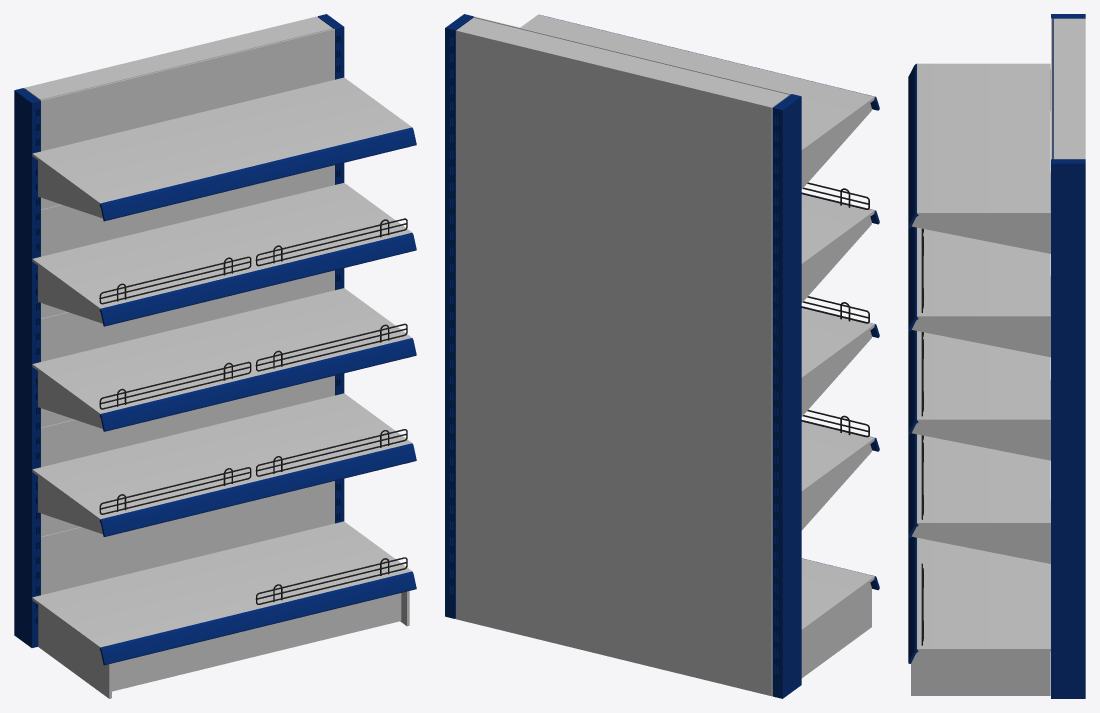
File: Single Shelf.FBX
3 views of the same model, side by side, from view 1: azimuth 30°, elevation 25°; view 2: azimuth 150°, elevation 25°; view 3: azimuth 270°, elevation 25° (orthographic). The views are drawn at different scales.
Visible parts, largest first — view 1: Single Shelf; view 2: Single Shelf; view 3: Single Shelf.
Part boxes in pixels (x1,y1,x2,y2): Single Shelf: [14, 14, 416, 698]; Single Shelf: [445, 14, 879, 698]; Single Shelf: [908, 14, 1085, 698].
Bounding box in the file's own units: 120 × 200 × 60.06.
